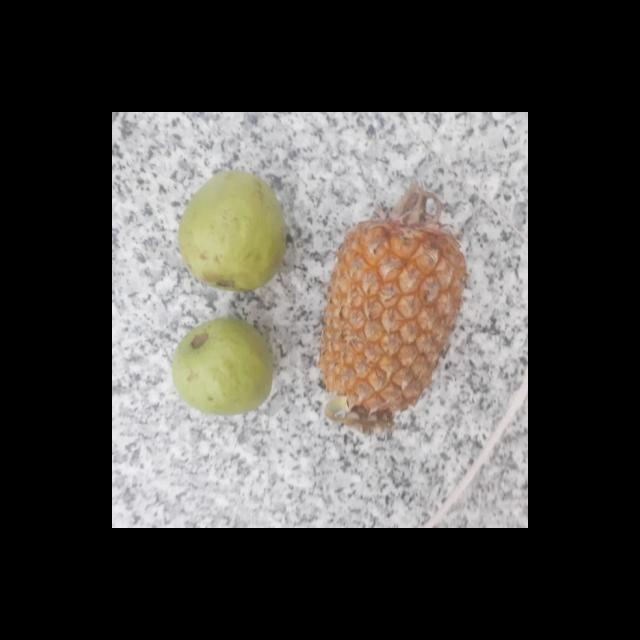guava: (170, 170, 289, 292), (164, 320, 274, 416)
pear: (166, 320, 272, 416)
pineapple: (317, 219, 467, 432)
